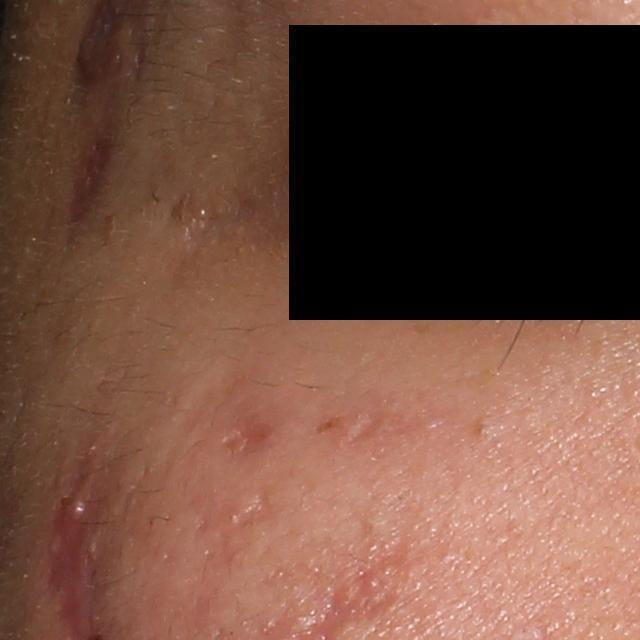atrophic_scar: (59, 123, 127, 244), (347, 399, 421, 446), (217, 411, 282, 459), (225, 484, 279, 528)
comedo: (473, 419, 497, 443)
